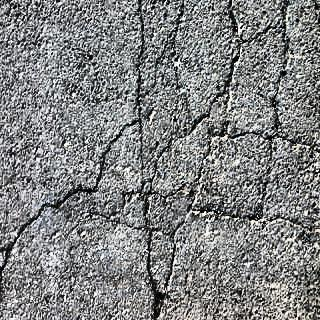alligator-crack: (134, 0, 304, 316)
crack: (0, 120, 143, 286)
